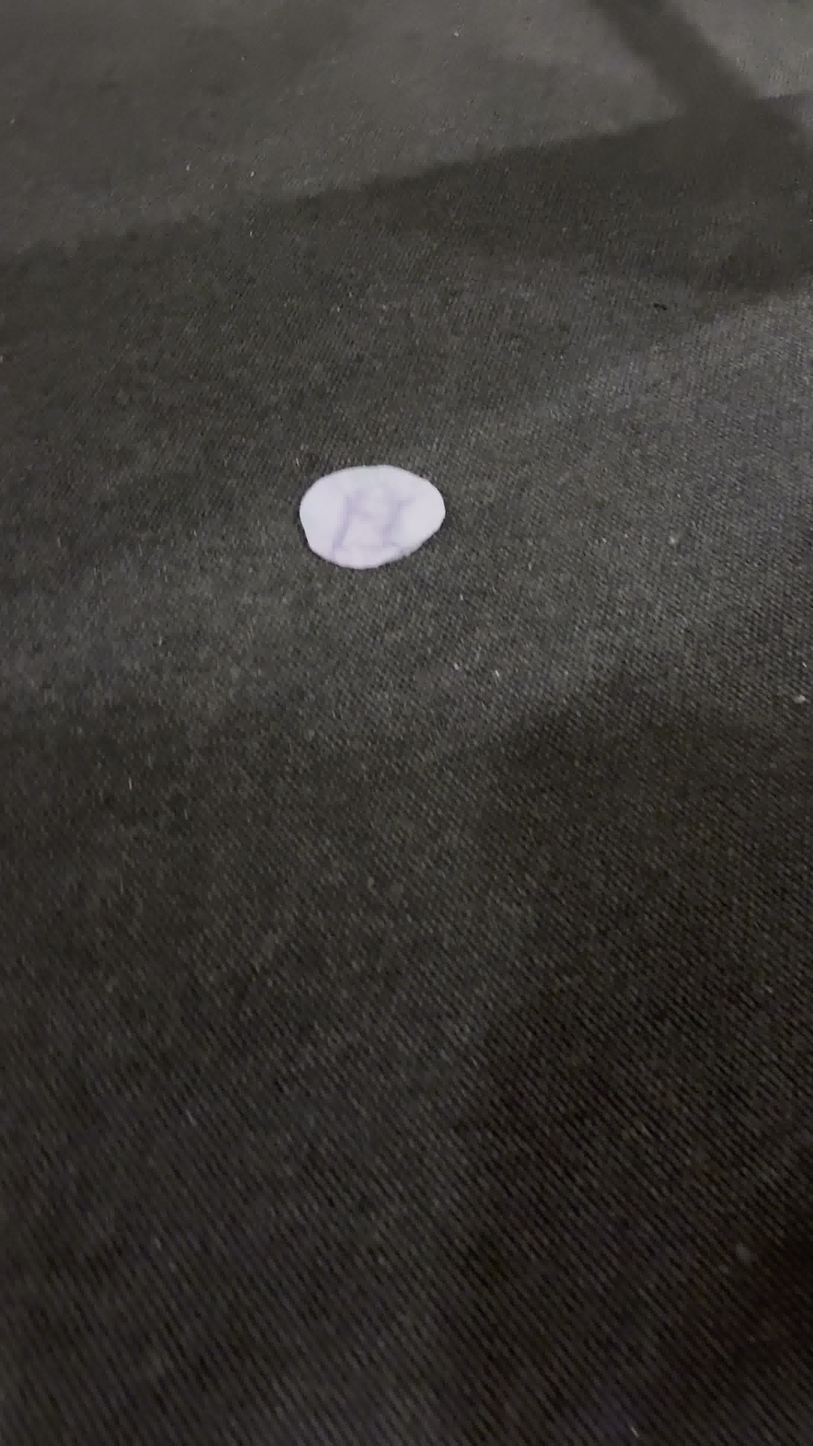Target: (298, 464, 446, 568)
